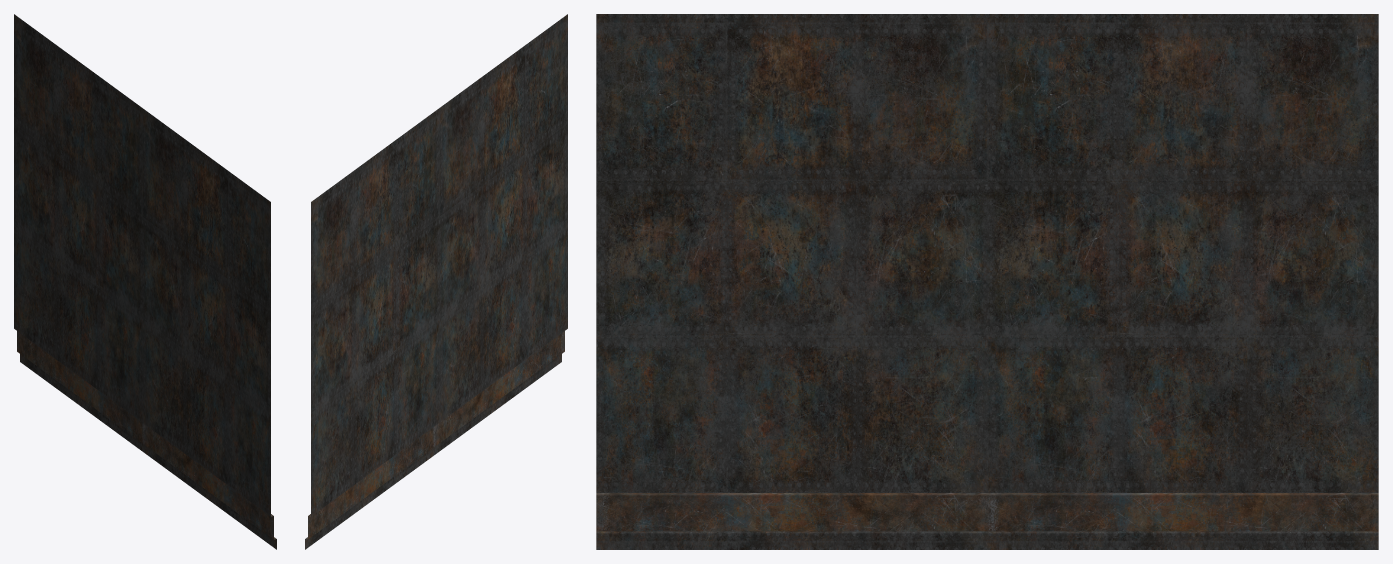
Rendered from Basement_Corridor_C_Wall_4m.glb.
3 renders of one model, left to right at view 1: azimuth 30°, elevation 25°; view 2: azimuth 150°, elevation 25°; view 3: azimuth 270°, elevation 25°, orthographic. The views are drawn at different scales.
Parts seen in each view (by area): view 1: Basement_Corridor_C_Wall_4m; view 2: Basement_Corridor_C_Wall_4m; view 3: Basement_Corridor_C_Wall_4m.
Boxes of the visible parts, x1=… form: Basement_Corridor_C_Wall_4m: x1=14, y1=14, x2=276, y2=549; Basement_Corridor_C_Wall_4m: x1=305, y1=14, x2=567, y2=549; Basement_Corridor_C_Wall_4m: x1=596, y1=14, x2=1378, y2=549.
Bounding box in the file's own units: 0.0532 × 3 × 4.
2 materials, 2 textured.
